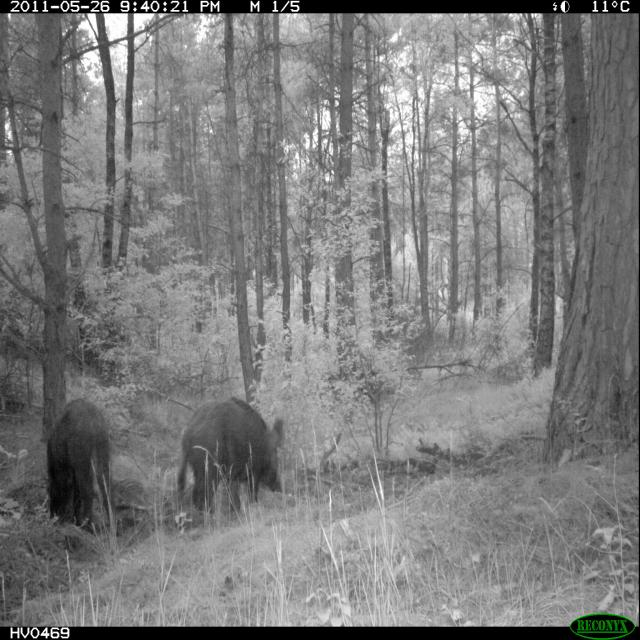boar: (154, 380, 298, 523), (36, 375, 134, 551)
